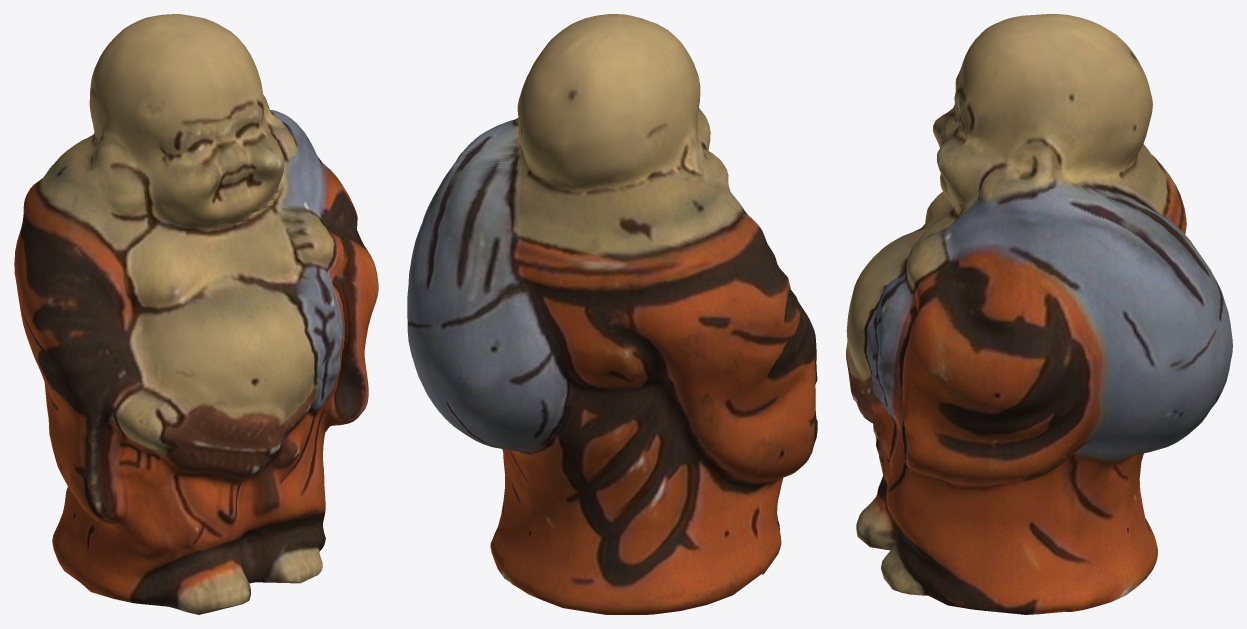
File: buddha_scaled_.obj
The picture shows the model from 3 angles, left to right: view 1: azimuth 30°, elevation 25°; view 2: azimuth 150°, elevation 25°; view 3: azimuth 270°, elevation 25°; orthographic projection. The views are drawn at different scales.
Visible parts, largest first — view 1: buddha_new:polygons_2; view 2: buddha_new:polygons_2; view 3: buddha_new:polygons_2.
Part boxes in pixels (bbox=[...]): buddha_new:polygons_2: bbox=[14, 14, 378, 614]; buddha_new:polygons_2: bbox=[407, 14, 817, 614]; buddha_new:polygons_2: bbox=[846, 14, 1232, 614].
Size of the model in its own units: 2.69 by 4.13 by 2.68.
Materials: 1 (1 with a texture image).
